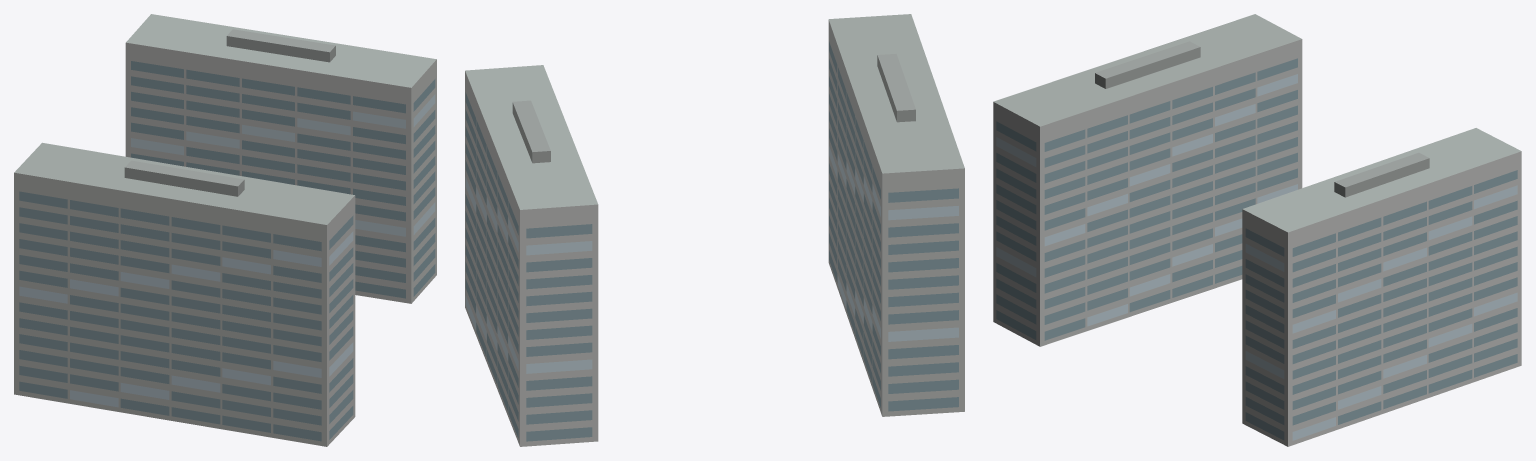
File: apt-a15007101.glb
The picture shows the model from 3 angles, left to right: view 1: azimuth 30°, elevation 25°; view 2: azimuth 150°, elevation 25°; view 3: azimuth 270°, elevation 25°; orthographic projection. The views are drawn at different scales.
Parts seen in each view (by area): view 1: apt-a15007101; view 2: apt-a15007101; view 3: apt-a15007101.
Boxes of the visible parts, x1,y1,x2,y2 form: apt-a15007101: (14,14,436,446); apt-a15007101: (465,14,964,446); apt-a15007101: (993,14,1521,446).
Size of the model in its own units: 75.2 by 38 by 78.95.
